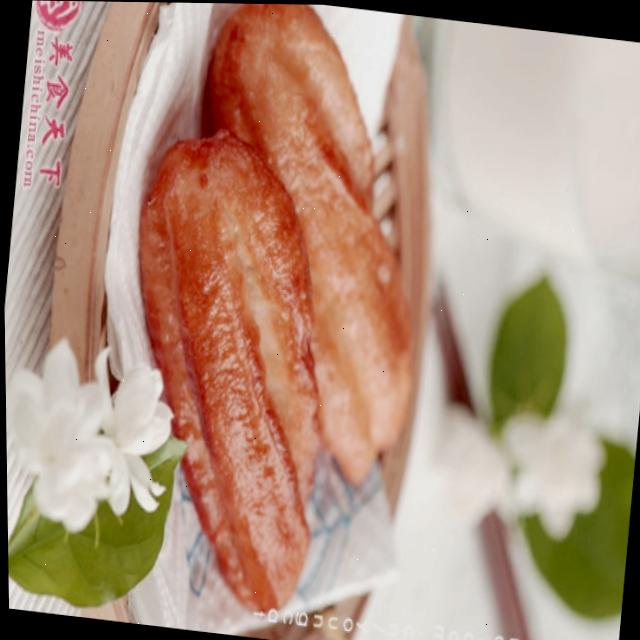炸货点心: (43, 1, 489, 640)
